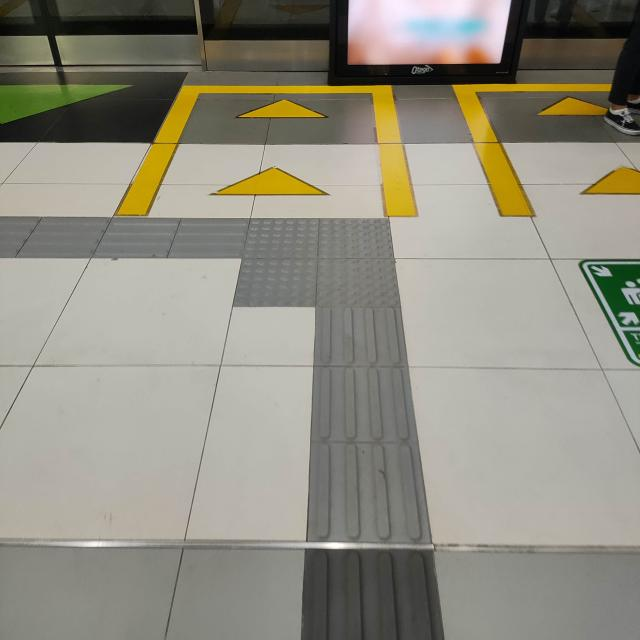kiri: (159, 183, 450, 363)
